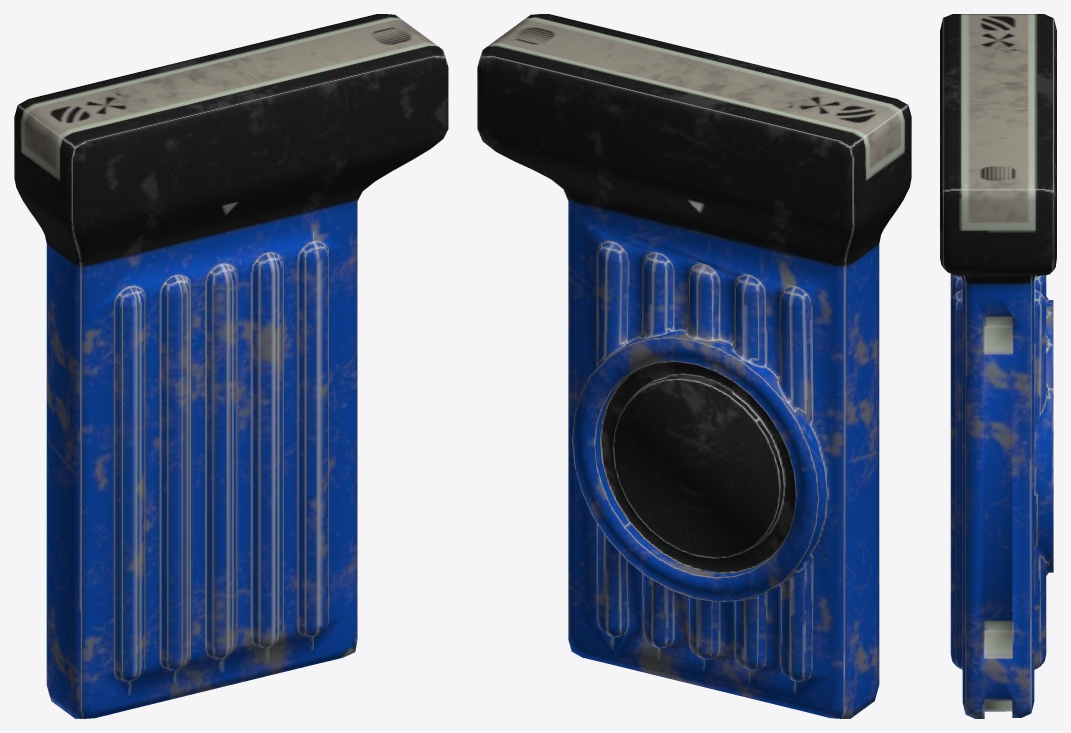
Rendered from datapod_blue.glb.
3 views of the same model, side by side, from view 1: azimuth 30°, elevation 25°; view 2: azimuth 150°, elevation 25°; view 3: azimuth 270°, elevation 25° (orthographic). The views are drawn at different scales.
Parts seen in each view (by area): view 1: Blue Pod; view 2: Blue Pod; view 3: Blue Pod.
Part boxes in pixels (left/top/right/bottom): Blue Pod: left=14, top=14, right=448, bottom=718; Blue Pod: left=477, top=14, right=911, bottom=718; Blue Pod: left=940, top=14, right=1056, bottom=718.
Size of the model in its own units: 115 by 172 by 31.9.
Materials: 1 (1 with a texture image).
